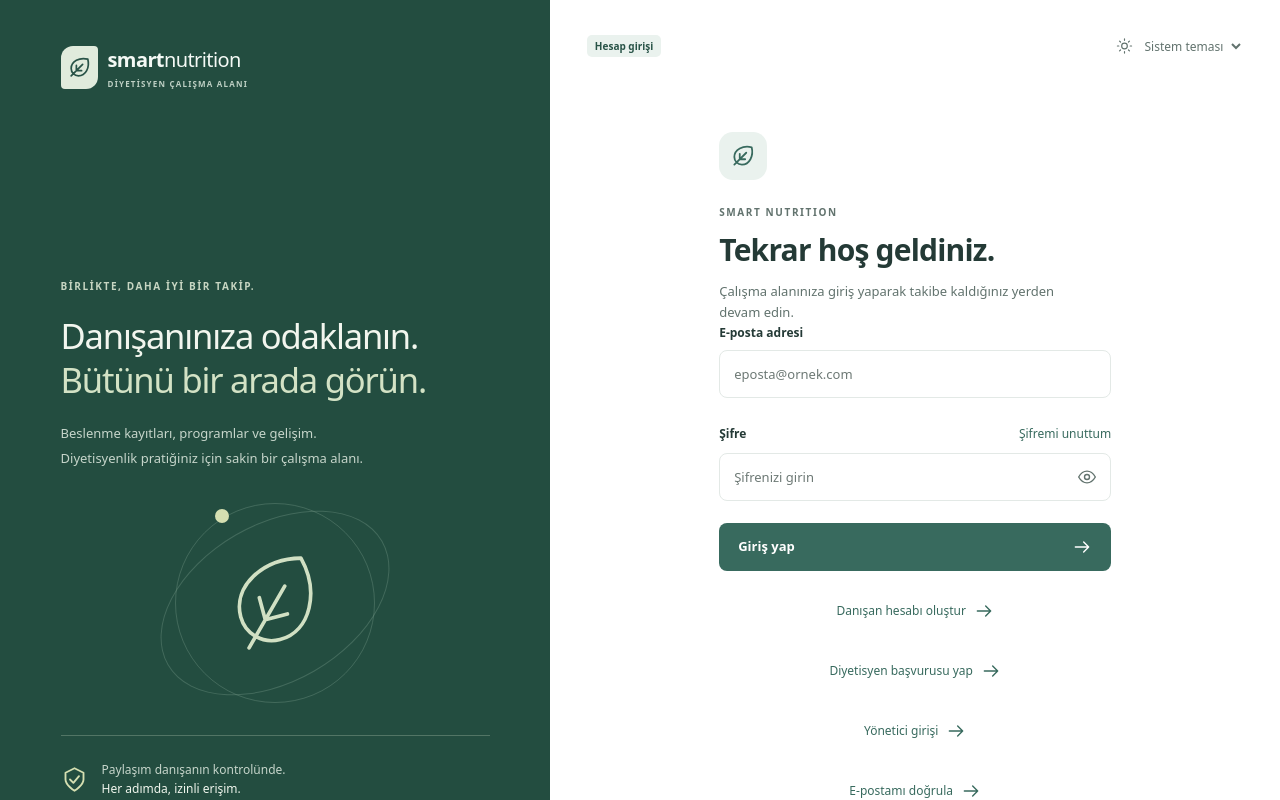
Test: web cookie session › logs in using CSRF and restores the account without tokens in JS storage or navigation
Type " synthetic@example.test " into the field labelled "E-posta adresi". click: (915, 374)
box: [719,350,1111,398]
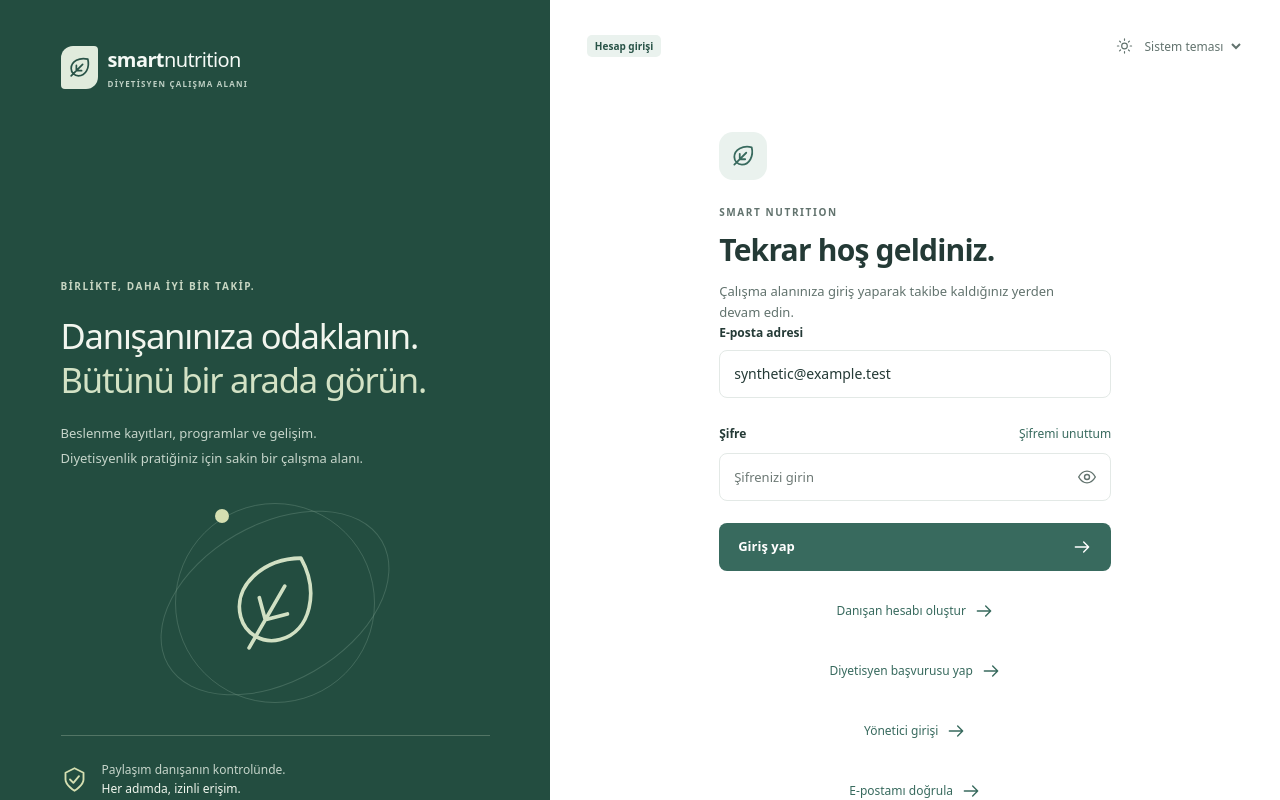
Type " synthetic password 🔒 " into the password field labelled "Şifre". click: (915, 477)
box: [719,453,1111,501]
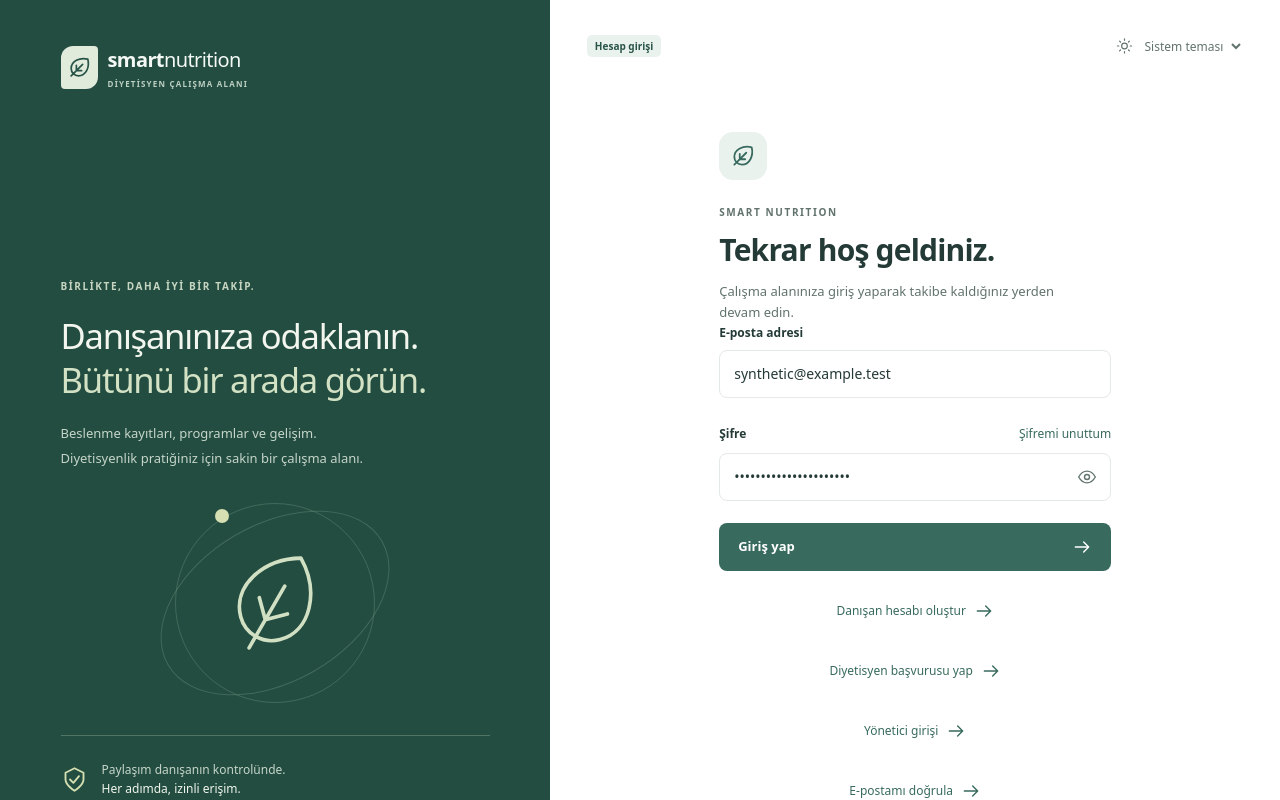
Click the button "Giriş yap". click: (766, 546)
box: [719,523,1111,571]
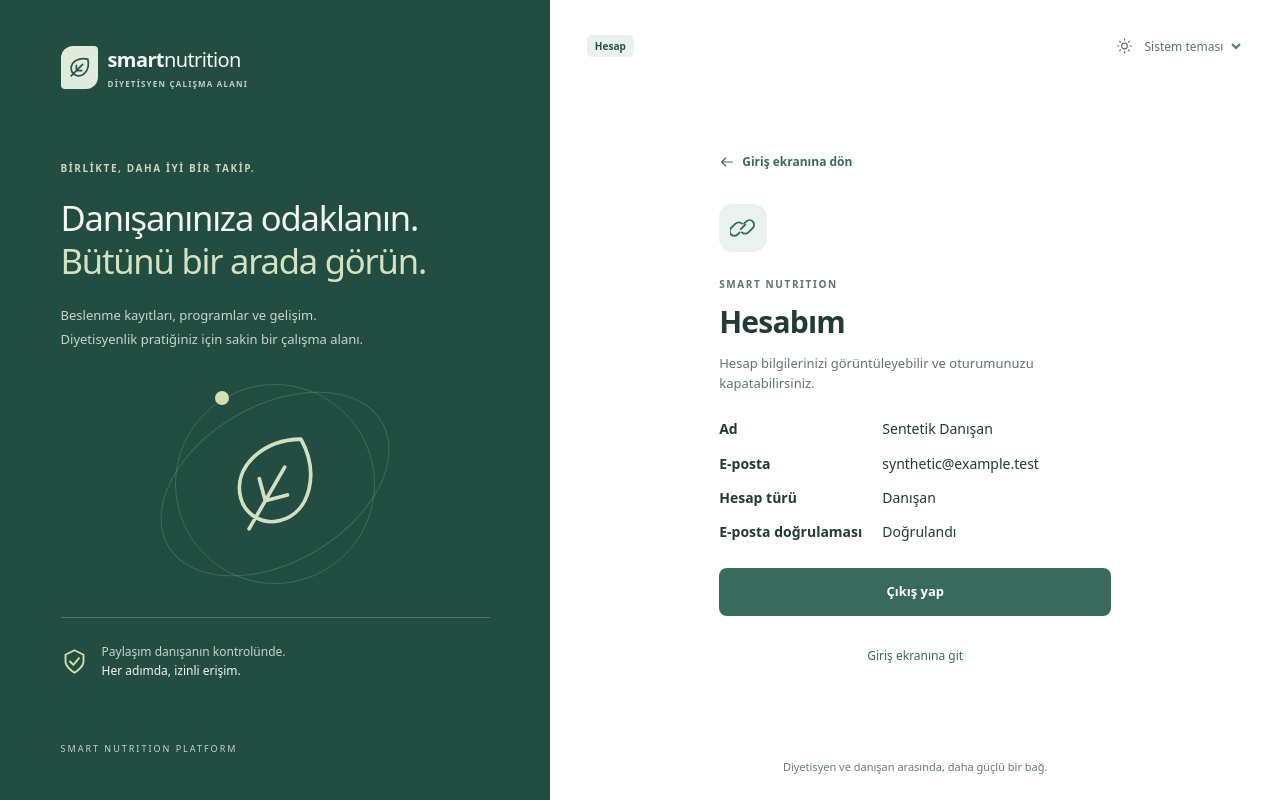
Check: the text "Sentetik Danışan" is shown, box [882,419,993,438]
Check: the heading "Hesabım" is shown, box [719,300,845,342]
